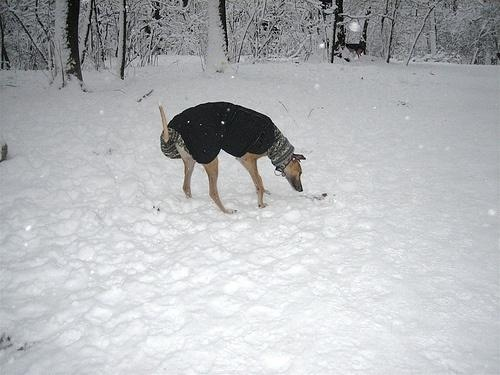dog: (157, 101, 307, 216)
